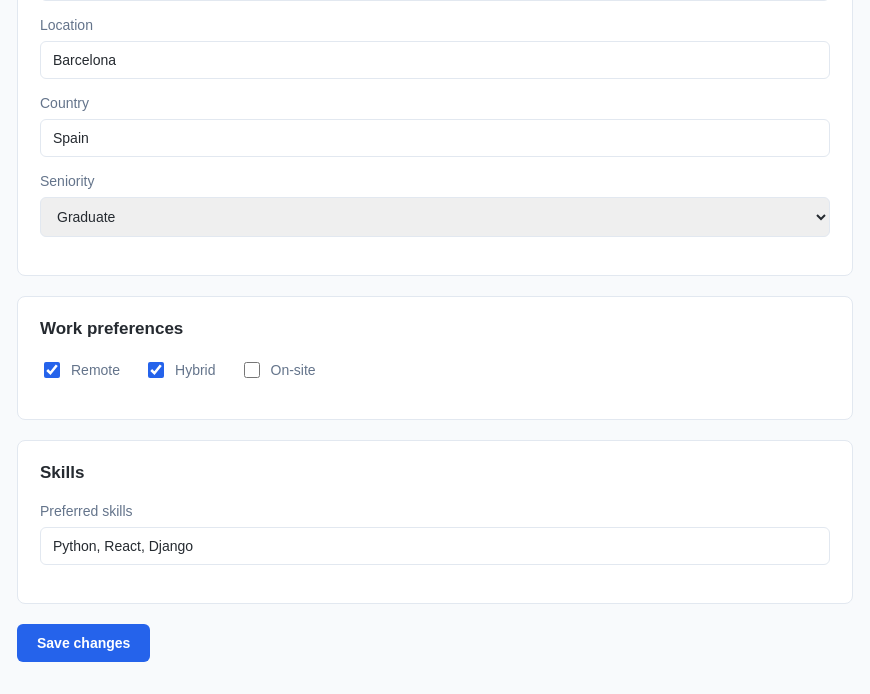
it: Profile › displays an error if saving fails
This screenshot has width=870, height=694.
(page scrolled)
Click the button "Save changes" at (84, 643), box [17, 624, 150, 662]
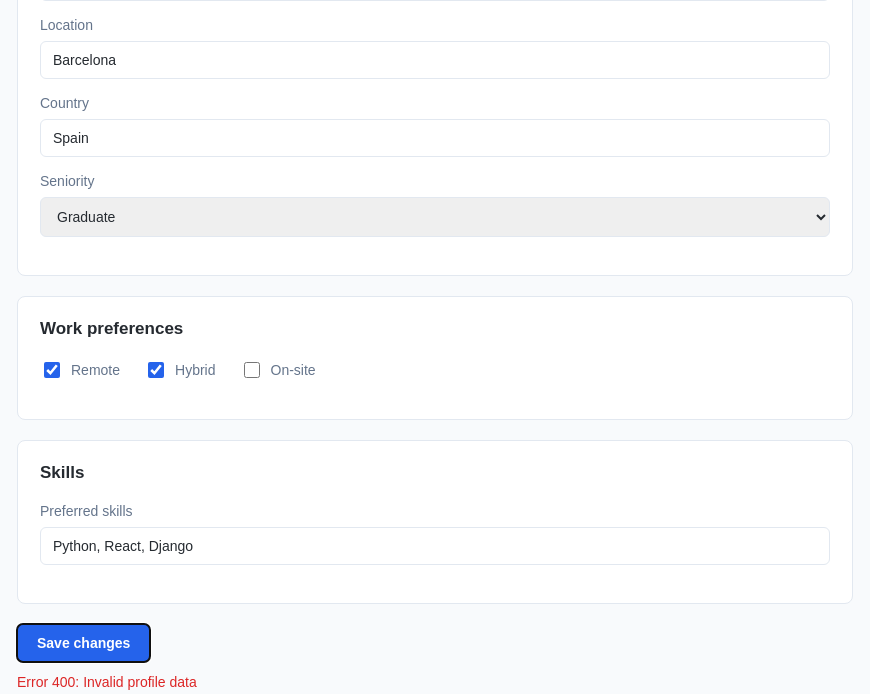
Now the text "Error 400: Invalid profile data" is shown, box [17, 674, 197, 690]
